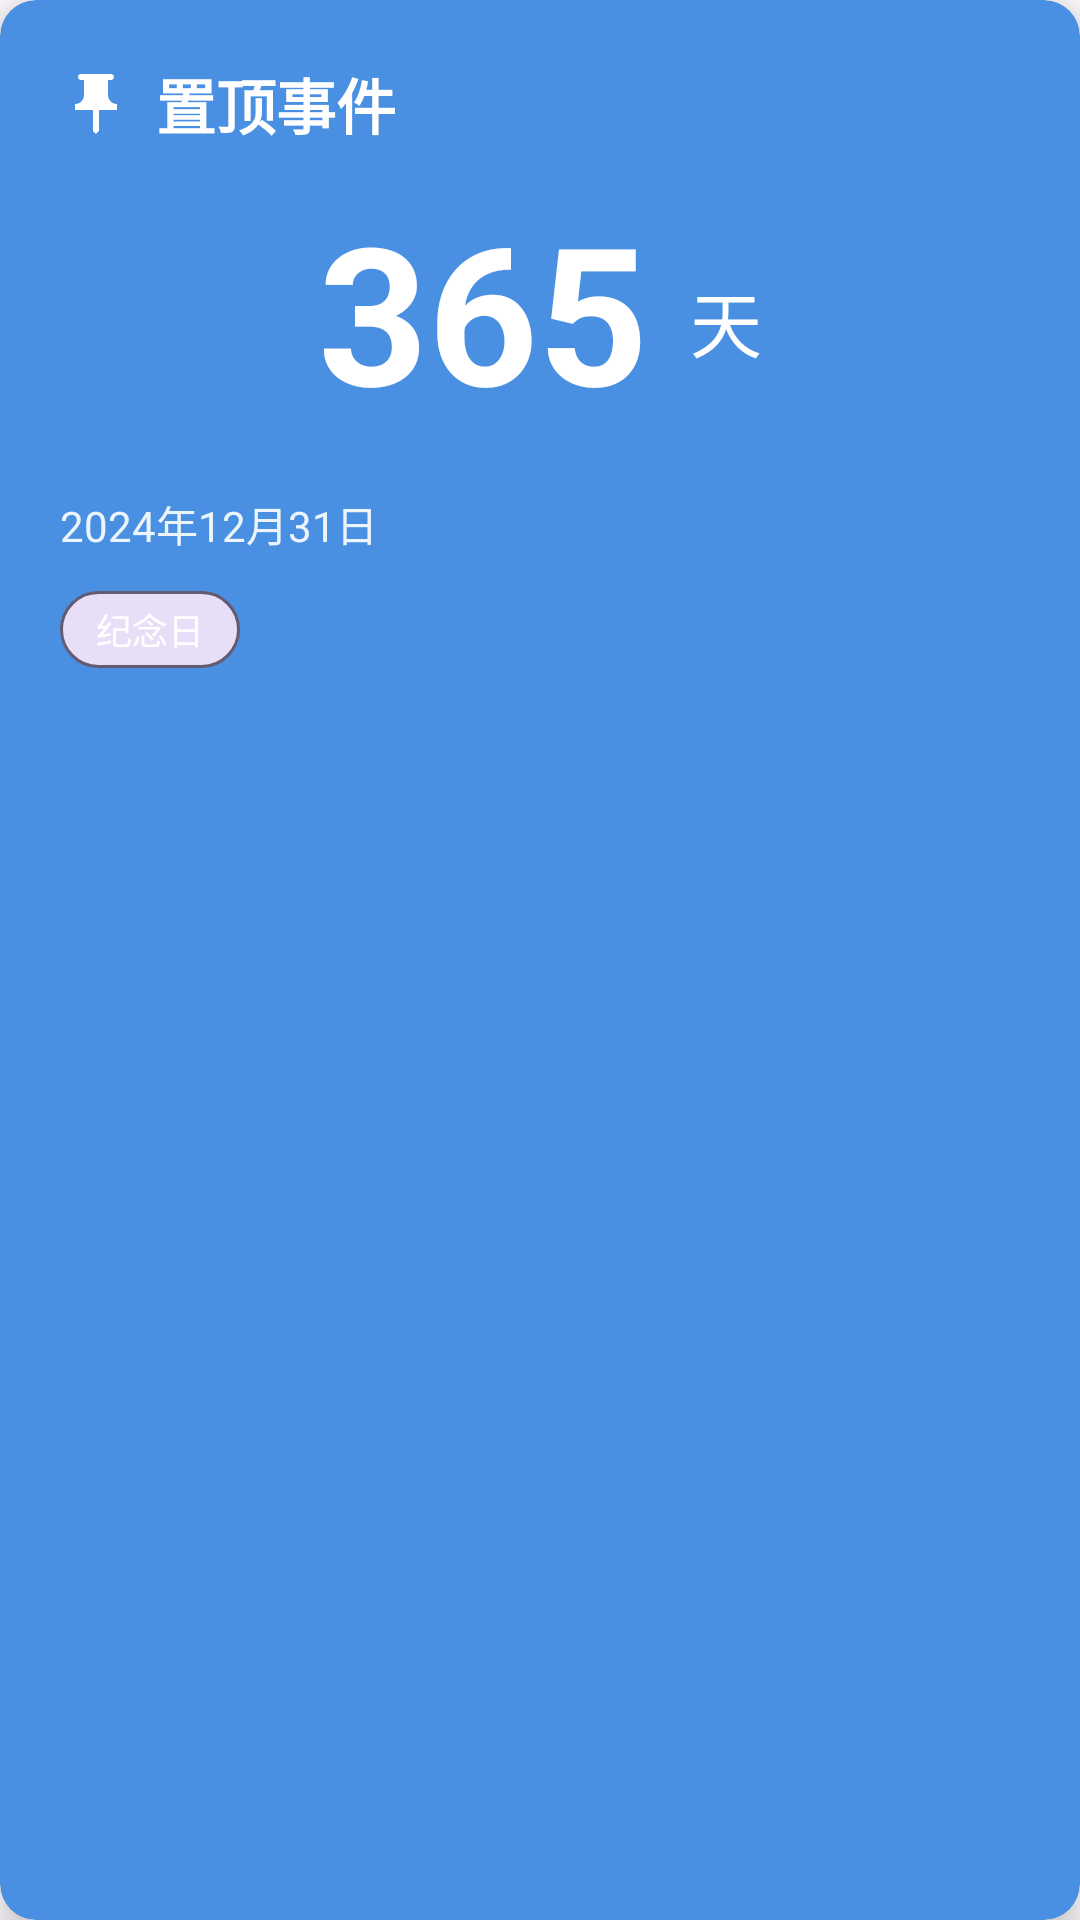

Point at icon controls on the screen. Image size 1080 × 1920, points as point (x, y).
push pin: point (96, 104)
